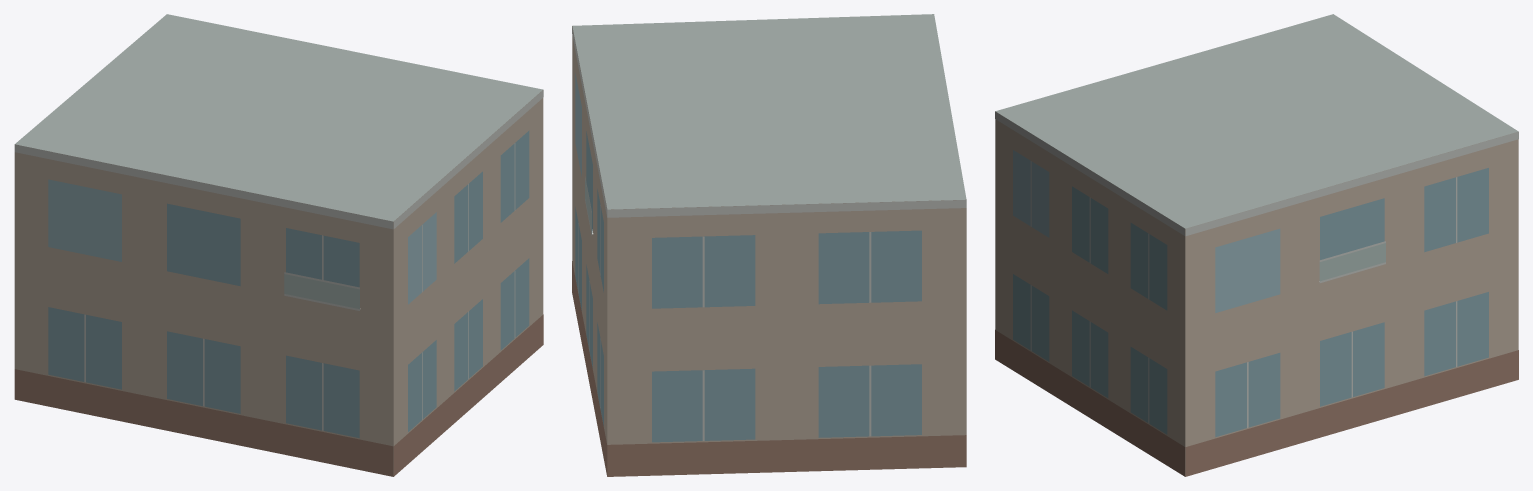
Rendered from survey-upis-32958178.glb.
3 views of the same model, side by side, from view 1: azimuth 30°, elevation 25°; view 2: azimuth 150°, elevation 25°; view 3: azimuth 270°, elevation 25° (orthographic). The views are drawn at different scales.
Parts seen in each view (by area): view 1: survey-upis-32958178.tmp; view 2: survey-upis-32958178.tmp; view 3: survey-upis-32958178.tmp.
Boxes of the visible parts, left/top/right/bottom form: survey-upis-32958178.tmp: left=14, top=14, right=543, bottom=476; survey-upis-32958178.tmp: left=572, top=14, right=966, bottom=476; survey-upis-32958178.tmp: left=995, top=14, right=1518, bottom=476.
Bounding box in the file's own units: 14.67 × 7.9 × 15.12.
